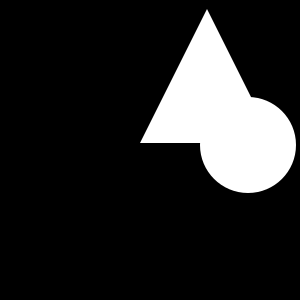rectangle: (200, 97, 296, 193)
triangle: (140, 9, 274, 143)
